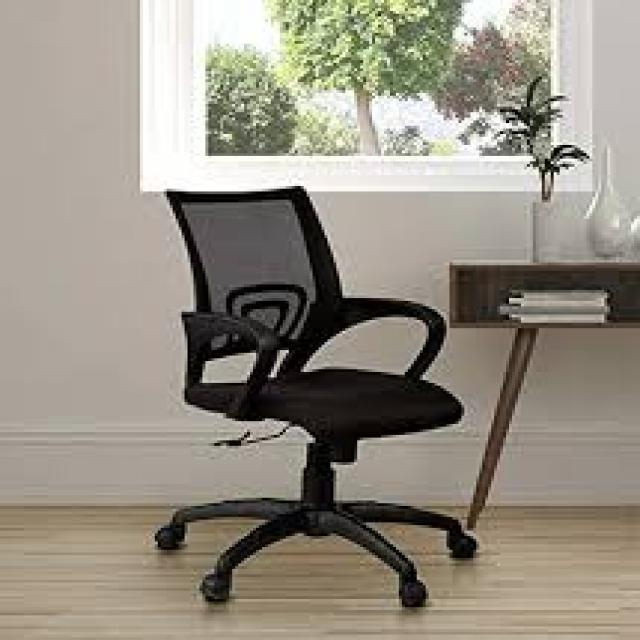chair: (158, 186, 480, 616)
